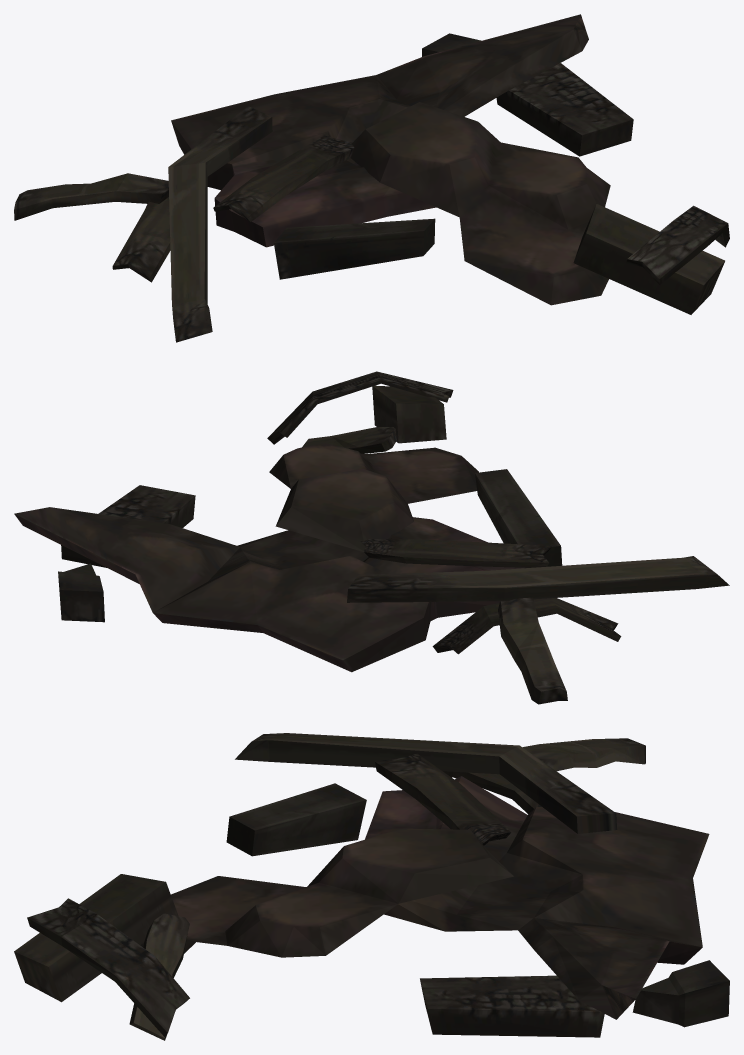
File: debris_piles_burnt_07.fbx
The picture shows the model from 3 angles, top to bottom: view 1: azimuth 30°, elevation 25°; view 2: azimuth 150°, elevation 25°; view 3: azimuth 270°, elevation 25°; orthographic projection. The views are drawn at different scales.
Visible parts, largest first — view 1: obj0.442; view 2: obj0.442; view 3: obj0.442.
Part boxes in pixels (x1,y1,x2,y2): obj0.442: [14, 14, 729, 342]; obj0.442: [14, 371, 729, 704]; obj0.442: [14, 733, 729, 1040].
Size of the model in its own units: 5.15 by 0.8073 by 4.89.
